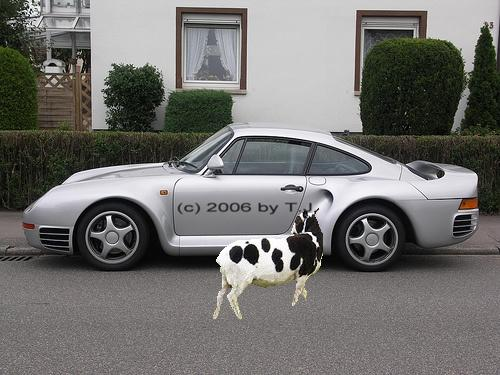tampered: (214, 209, 323, 319)
